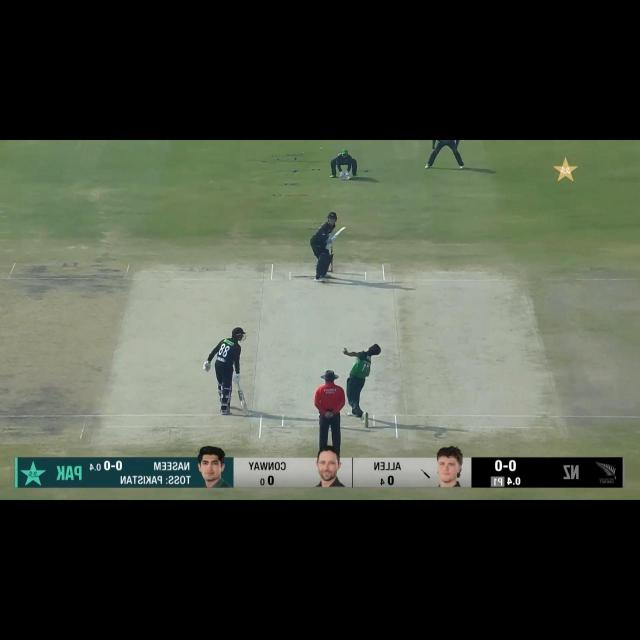bat: (237, 389, 250, 416), (332, 226, 347, 240)
toe: (242, 408, 250, 417), (340, 226, 347, 232)
